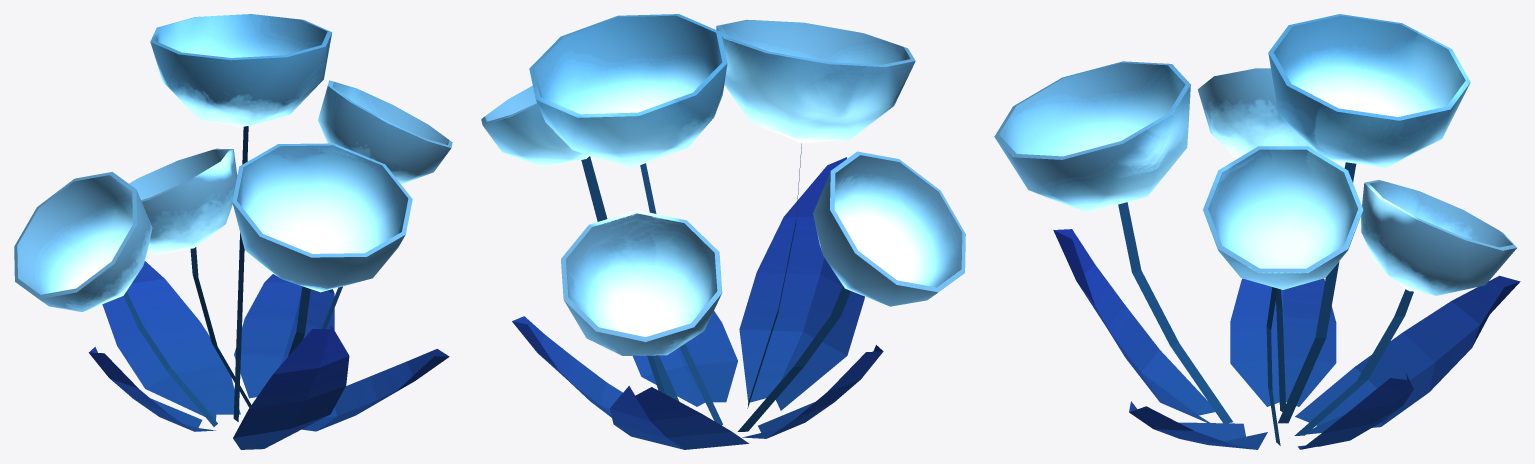
The model's file is moonflower.fbx.
3 renders of one model, left to right at view 1: azimuth 30°, elevation 25°; view 2: azimuth 150°, elevation 25°; view 3: azimuth 270°, elevation 25°, orthographic. The views are drawn at different scales.
Visible parts, largest first — view 1: Icosphere.002.frozen, Cube.007, Cube.001.frozen; view 2: Icosphere.002.frozen, Cube.007, Cube.001.frozen; view 3: Icosphere.002.frozen, Cube.007, Cube.001.frozen.
Part boxes in pixels (x1,y1,x2,y2): Icosphere.002.frozen: [14, 14, 452, 311]; Cube.007: [88, 261, 449, 449]; Cube.001.frozen: [123, 126, 342, 426]; Icosphere.002.frozen: [481, 14, 965, 355]; Cube.007: [512, 157, 883, 449]; Cube.001.frozen: [581, 143, 850, 431]; Icosphere.002.frozen: [994, 14, 1516, 295]; Cube.007: [1053, 229, 1520, 449]; Cube.001.frozen: [1118, 162, 1413, 445].
Bounding box in the file's own units: 300 × 251 × 298.
1 material, 1 textured.
